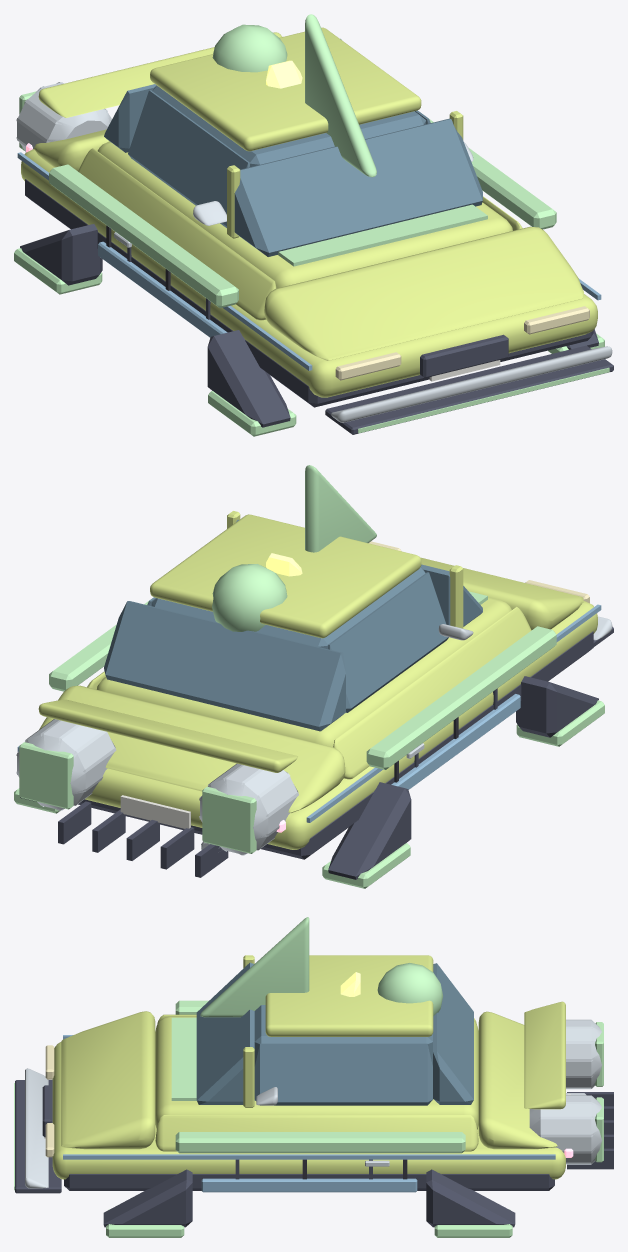
File: laser_lotus.fbx
The picture shows the model from 3 angles, top to bottom: view 1: azimuth 30°, elevation 25°; view 2: azimuth 150°, elevation 25°; view 3: azimuth 270°, elevation 25°; orthographic projection. The views are drawn at different scales.
Parts seen in each view (by area): view 1: Body, Glass, Trim, Light, Accent3, Accent, Accent2, Light2, Light4; view 2: Body, Glass, Light, Trim, Accent, Accent3, Accent2, Accent4, Light4; view 3: Body, Glass, Trim, Light, Accent, Accent3, Accent2, Light2.
Boxes of the visible parts, x1=… form: Body: x1=21, y1=27, x2=597, y2=397; Glass: x1=104, y1=38, x2=482, y2=256; Trim: x1=20, y1=179, x2=613, y2=434; Light: x1=14, y1=24, x2=609, y2=436; Accent3: x1=277, y1=14, x2=487, y2=266; Accent: x1=16, y1=82, x2=612, y2=422; Accent2: x1=17, y1=152, x2=601, y2=370; Light2: x1=335, y1=306, x2=589, y2=380; Light4: x1=266, y1=60, x2=302, y2=88; Body: x1=38, y1=511, x2=597, y2=849; Glass: x1=104, y1=519, x2=482, y2=731; Light: x1=14, y1=564, x2=604, y2=888; Trim: x1=20, y1=626, x2=613, y2=879; Accent: x1=16, y1=616, x2=612, y2=855; Accent3: x1=305, y1=465, x2=487, y2=604; Accent2: x1=17, y1=604, x2=601, y2=822; Accent4: x1=120, y1=795, x2=190, y2=828; Light4: x1=266, y1=553, x2=302, y2=576; Body: x1=52, y1=955, x2=565, y2=1179; Glass: x1=196, y1=962, x2=473, y2=1105; Trim: x1=15, y1=1080, x2=613, y2=1227; Light: x1=14, y1=963, x2=603, y2=1237; Accent: x1=25, y1=1019, x2=602, y2=1188; Accent3: x1=171, y1=917, x2=309, y2=1100; Accent2: x1=63, y1=1035, x2=555, y2=1192; Light2: x1=45, y1=1045, x2=54, y2=1157.
Size of the model in its own units: 3.1 by 2.46 by 5.38.
